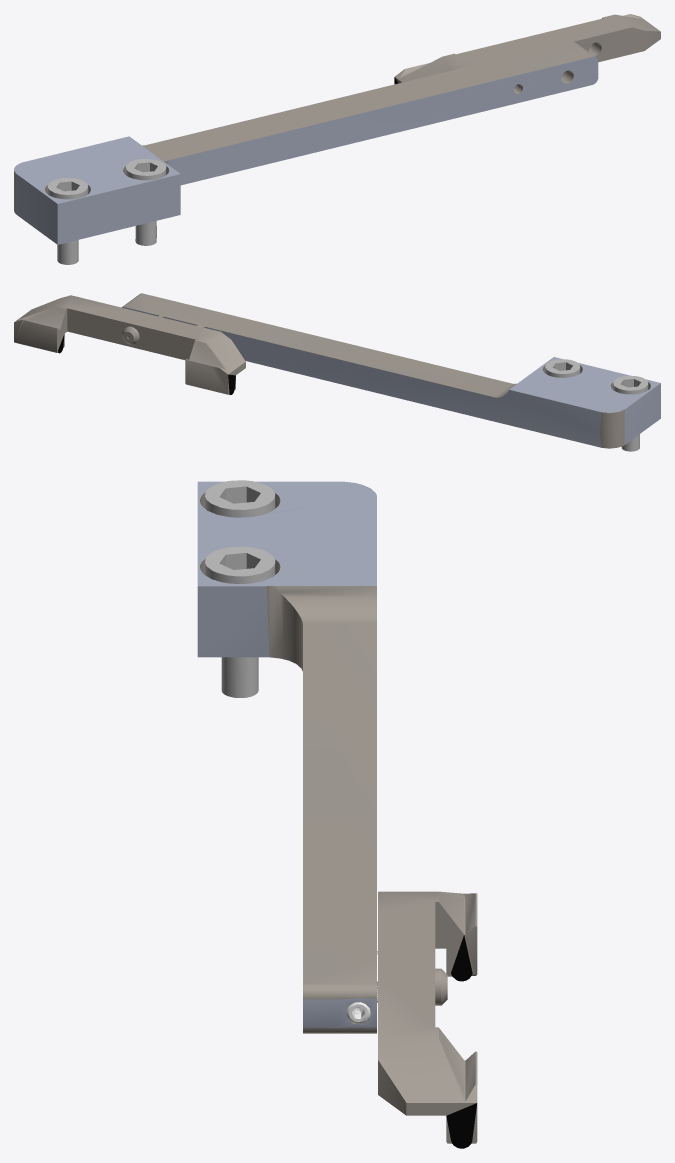
File: brooks_pf400_gripper_finger_s23_left.glb
3 views of the same model, one above another, from view 1: azimuth 30°, elevation 25°; view 2: azimuth 150°, elevation 25°; view 3: azimuth 270°, elevation 25° (orthographic). The views are drawn at different scales.
Parts seen in each view (by area): view 1: brooks_pf400_gripper_finger_s23_left; view 2: brooks_pf400_gripper_finger_s23_left; view 3: brooks_pf400_gripper_finger_s23_left.
Part boxes in pixels (x1=…): brooks_pf400_gripper_finger_s23_left: x1=14, y1=14, x2=660, y2=264; brooks_pf400_gripper_finger_s23_left: x1=14, y1=293, x2=660, y2=451; brooks_pf400_gripper_finger_s23_left: x1=197, y1=480, x2=477, y2=1148.
Size of the model in its own units: 0.1078 by 0.0115 by 0.0226.
